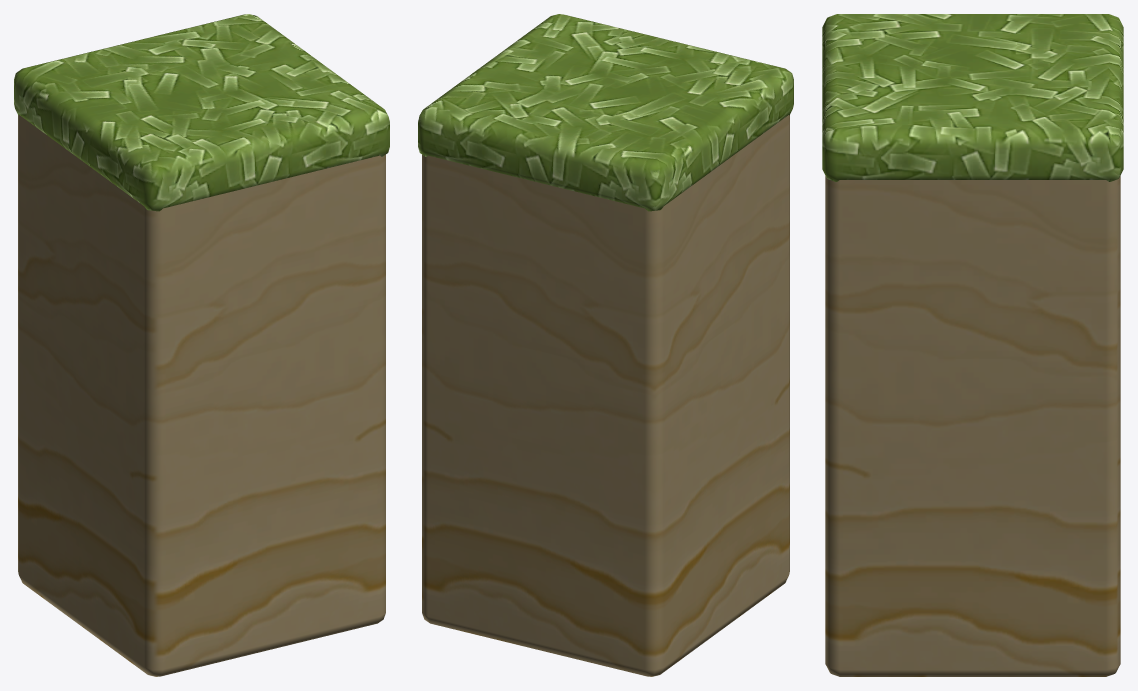
The model's file is SM_Platform_1m_01_C.glb.
The picture shows the model from 3 angles, left to right: view 1: azimuth 30°, elevation 25°; view 2: azimuth 150°, elevation 25°; view 3: azimuth 270°, elevation 25°; orthographic projection. The views are drawn at different scales.
Parts seen in each view (by area): view 1: SM_Platform_1m_01_C; view 2: SM_Platform_1m_01_C; view 3: SM_Platform_1m_01_C.
Part boxes in pixels (box(x1,y1,x2,y2)): SM_Platform_1m_01_C: box(14, 14, 389, 676); SM_Platform_1m_01_C: box(418, 14, 793, 676); SM_Platform_1m_01_C: box(822, 14, 1123, 676).
Bounding box in the file's own units: 1.02 × 2.05 × 1.02.
2 materials, 2 textured.
